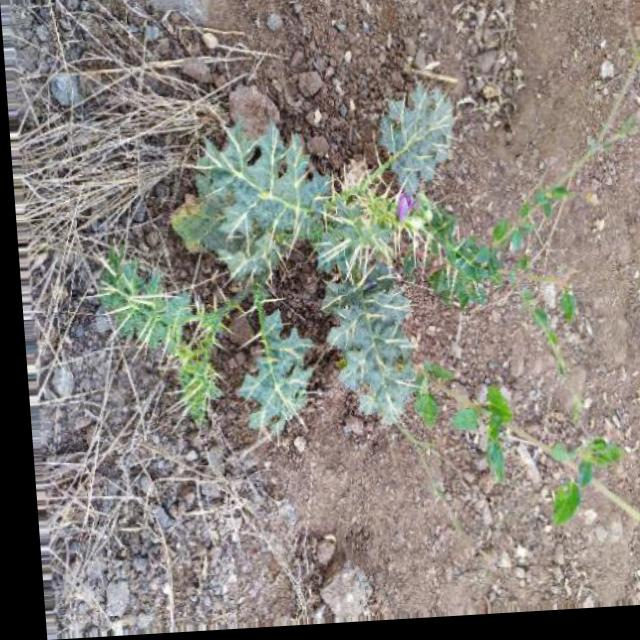weed: (82, 28, 623, 620)
